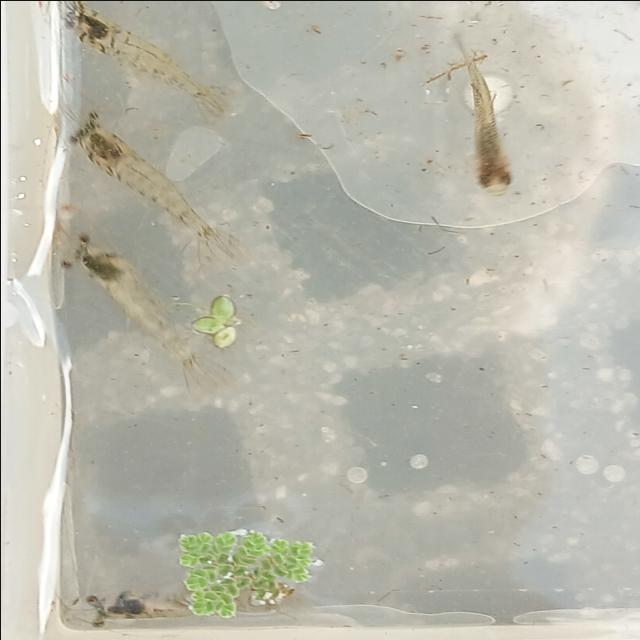Sivrisinek Baligi: (48, 219, 228, 395), (50, 118, 247, 260), (55, 0, 228, 113), (442, 39, 518, 197)
